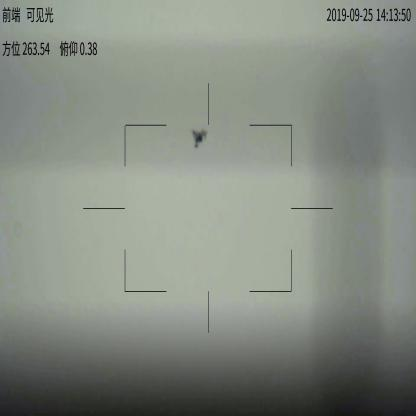uav: (191, 126, 208, 152)
